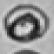correct: (4, 7, 47, 42)
